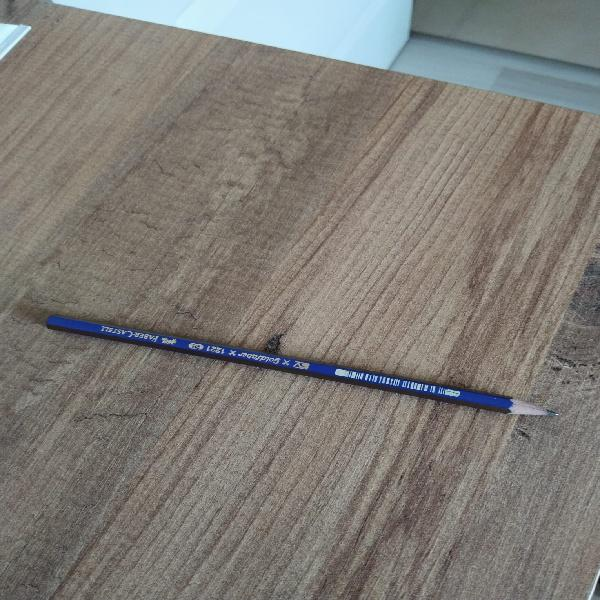pencil: (47, 315, 555, 415)
